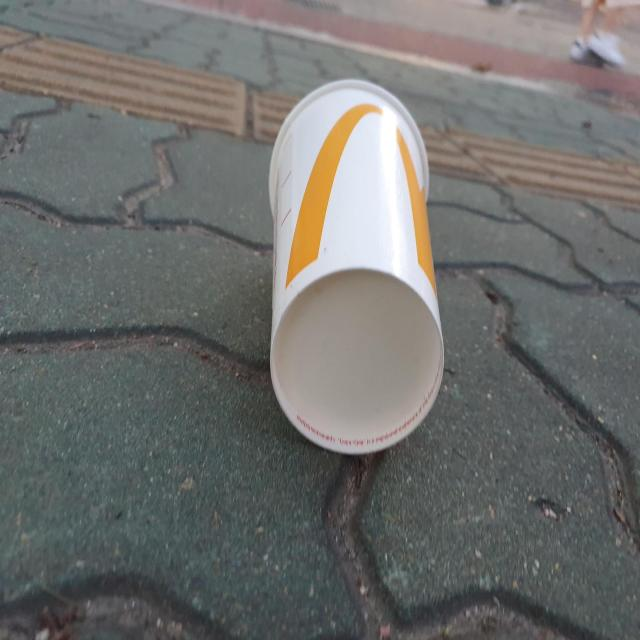paperpack: (269, 79, 444, 454)
